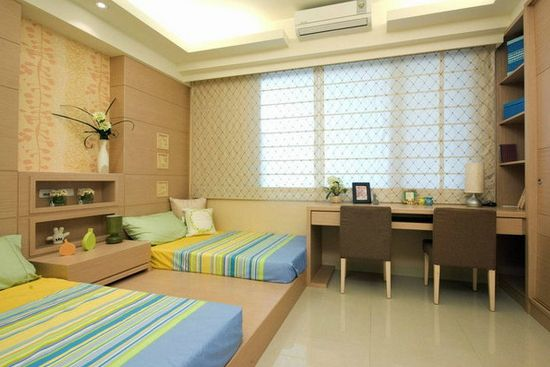床: (0, 275, 254, 367), (132, 227, 308, 283)
枕头: (118, 198, 221, 243), (1, 235, 36, 285)
灯: (463, 163, 483, 207), (91, 1, 108, 11)
